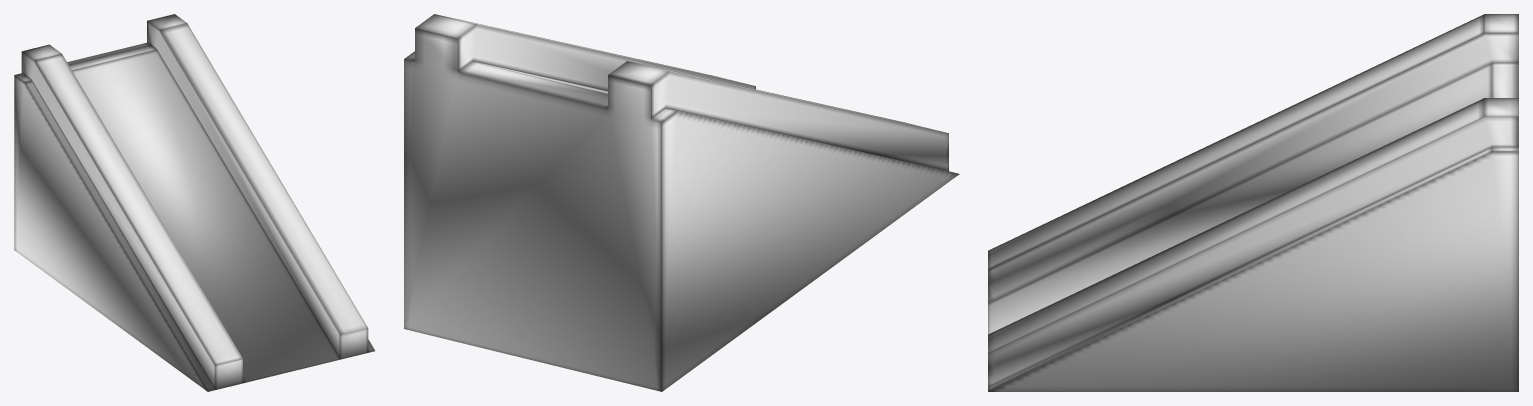
File: Wall-05.fbx
3 renders of one model, left to right at view 1: azimuth 30°, elevation 25°; view 2: azimuth 150°, elevation 25°; view 3: azimuth 270°, elevation 25°, orthographic. The views are drawn at different scales.
Parts seen in each view (by area): view 1: Wall-05; view 2: Wall-05; view 3: Wall-05.
Boxes of the visible parts, x1,y1,x2,y2 form: Wall-05: (14,14,374,391); Wall-05: (404,14,959,391); Wall-05: (988,14,1518,391).
Size of the model in its own units: 1 by 1.12 by 2.
